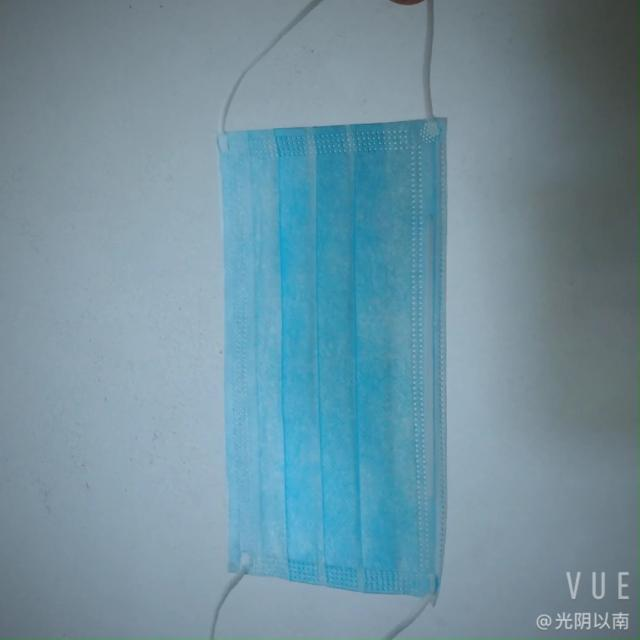non-organic waste: (208, 111, 458, 583)
